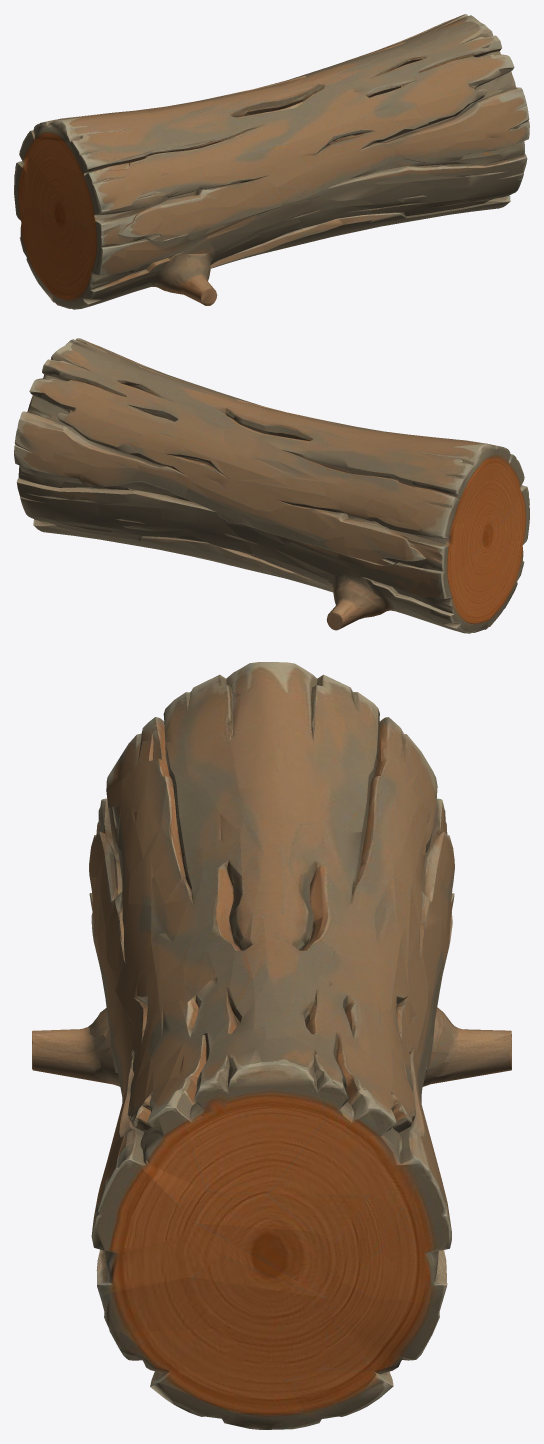
The model's file is log.glb.
3 renders of one model, top to bottom at view 1: azimuth 30°, elevation 25°; view 2: azimuth 150°, elevation 25°; view 3: azimuth 270°, elevation 25°, orthographic. The views are drawn at different scales.
Size of the model in its own units: 1.44 by 0.5812 by 0.6919.
1 material, 1 textured.
